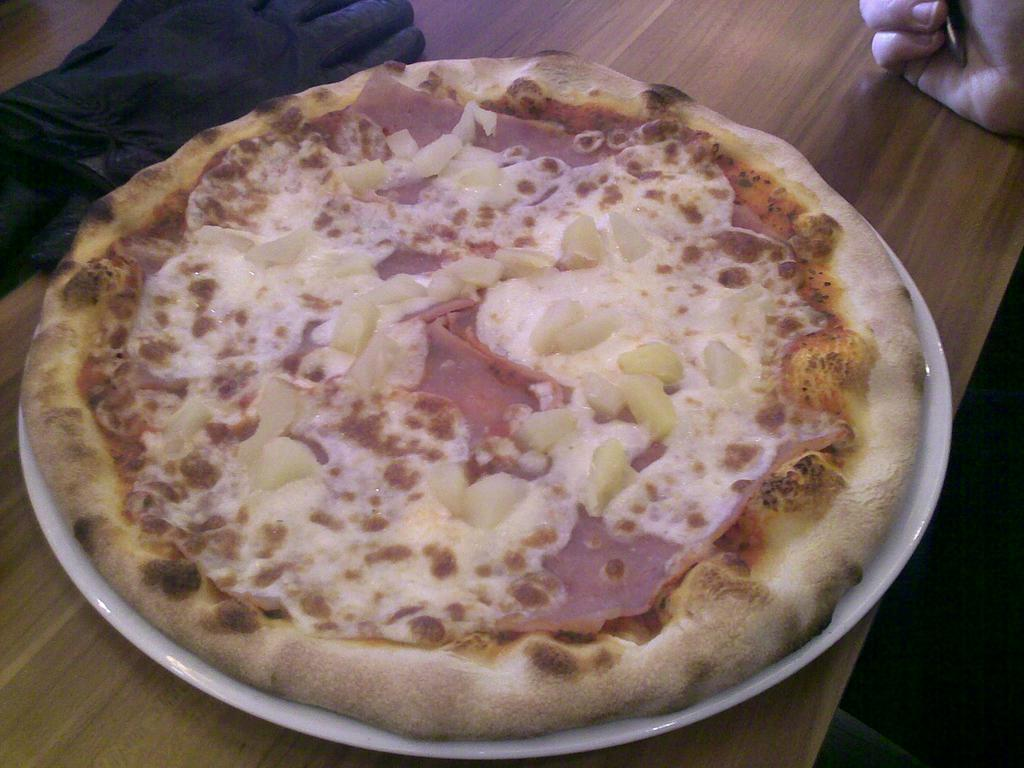Pizza: (17, 45, 928, 733)
